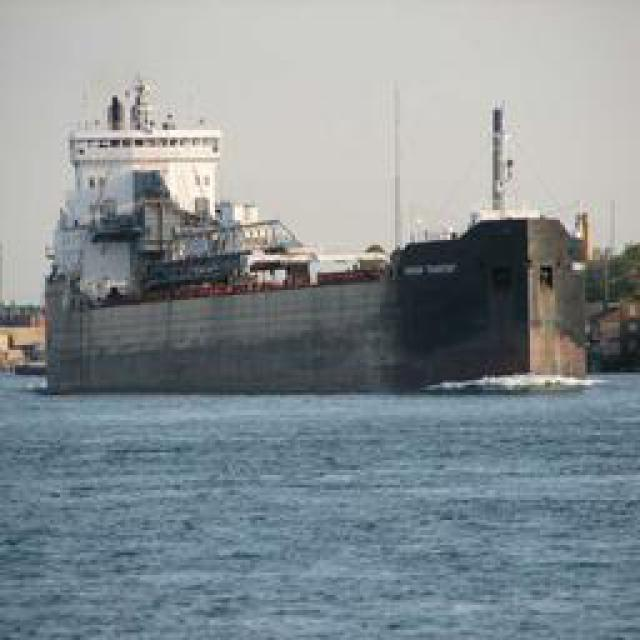Ship: (26, 91, 623, 400)
